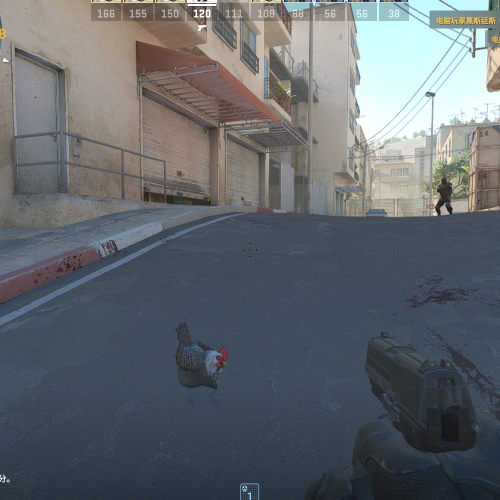chicken: (173, 319, 229, 409)
ct_body: (434, 177, 454, 217)
ct_head: (441, 176, 448, 186)
